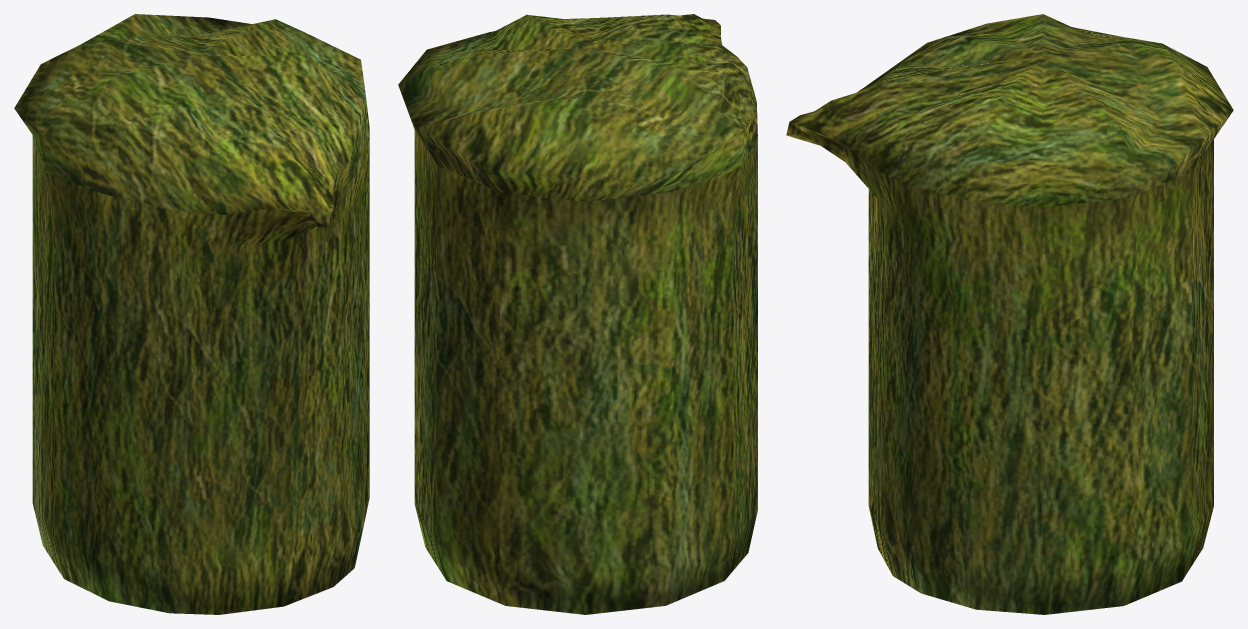
File: algae.DAE
3 views of the same model, side by side, from view 1: azimuth 30°, elevation 25°; view 2: azimuth 150°, elevation 25°; view 3: azimuth 270°, elevation 25° (orthographic).
Parts seen in each view (by area): view 1: algae; view 2: algae; view 3: algae.
Boxes of the visible parts, bbox=[...] form: algae: bbox=[14, 14, 369, 614]; algae: bbox=[398, 14, 757, 614]; algae: bbox=[786, 14, 1233, 614].
Size of the model in its own units: 10.93 by 13.46 by 16.93.
